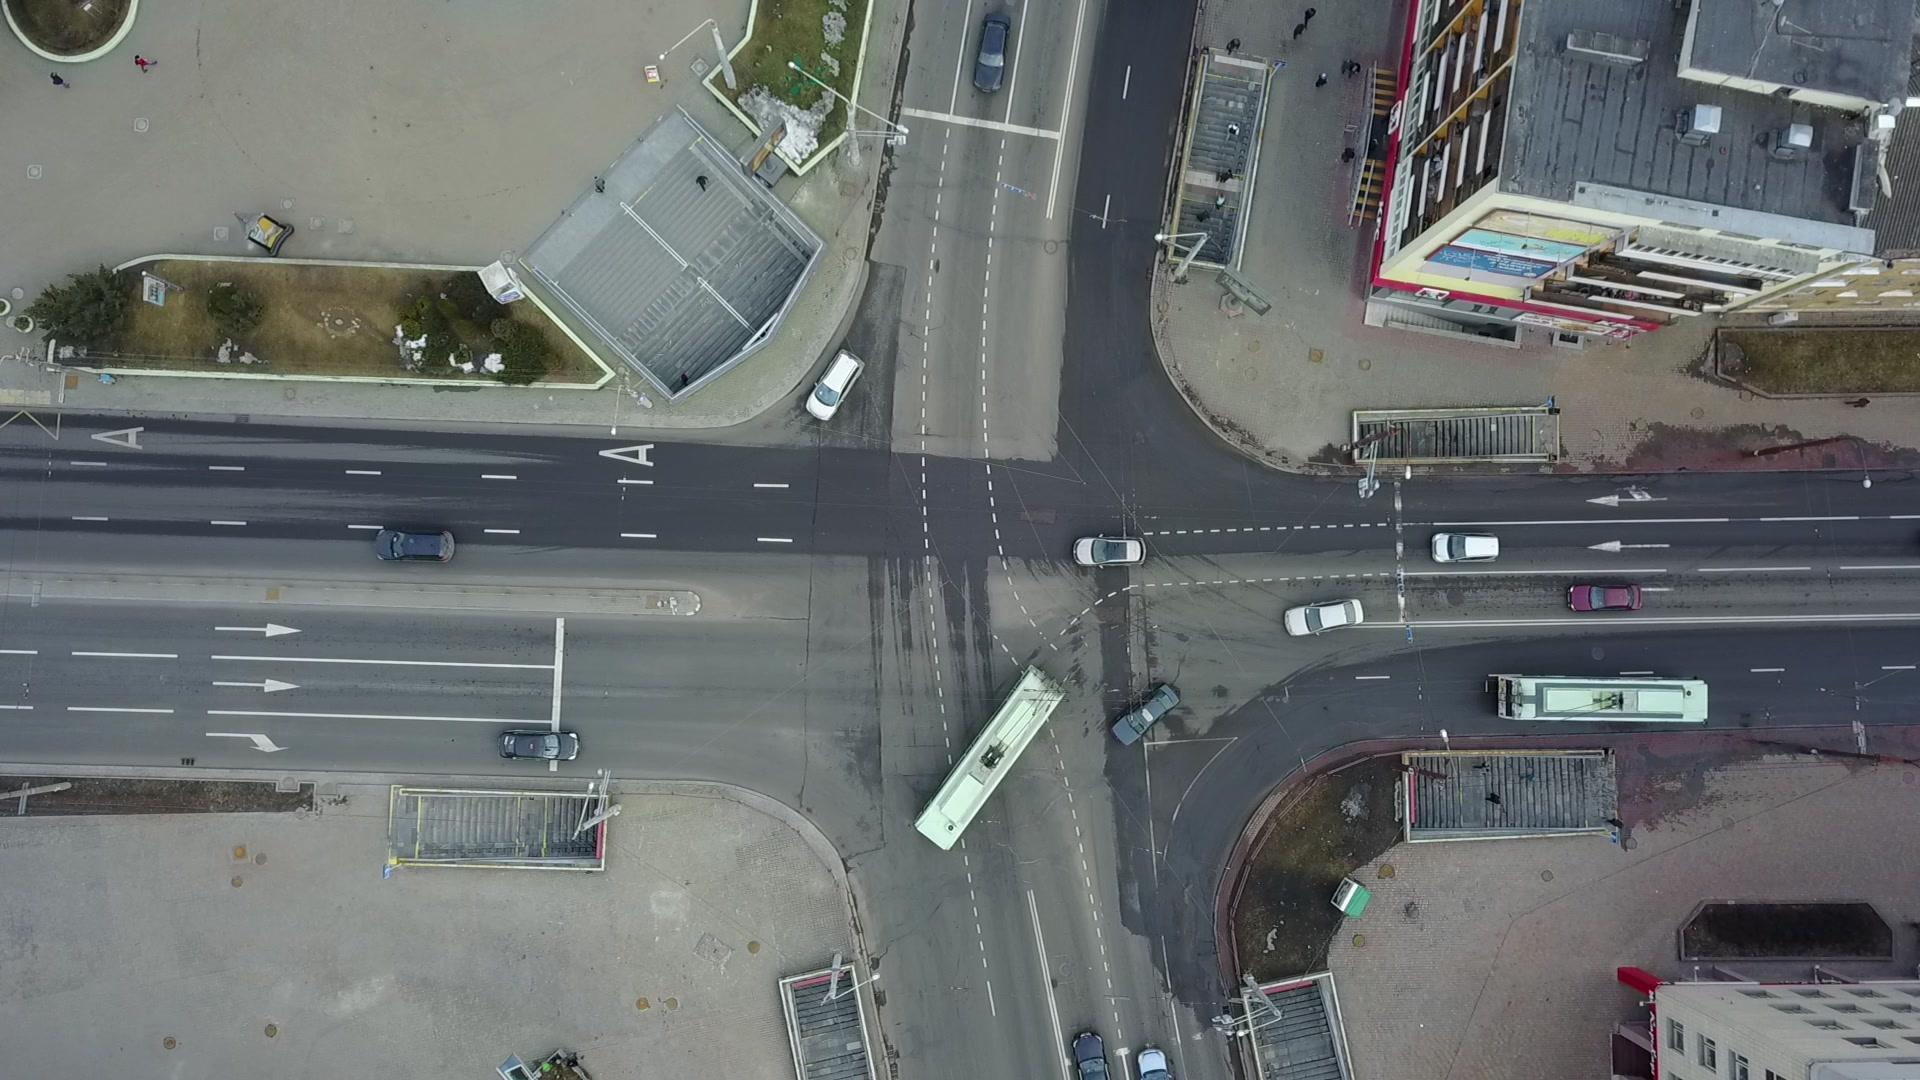car: (803, 347, 866, 423), (1110, 683, 1182, 746), (1280, 596, 1367, 637), (971, 12, 1013, 95), (373, 527, 458, 564), (496, 729, 582, 764), (1071, 533, 1149, 570), (1567, 582, 1643, 613), (1429, 531, 1501, 563)
